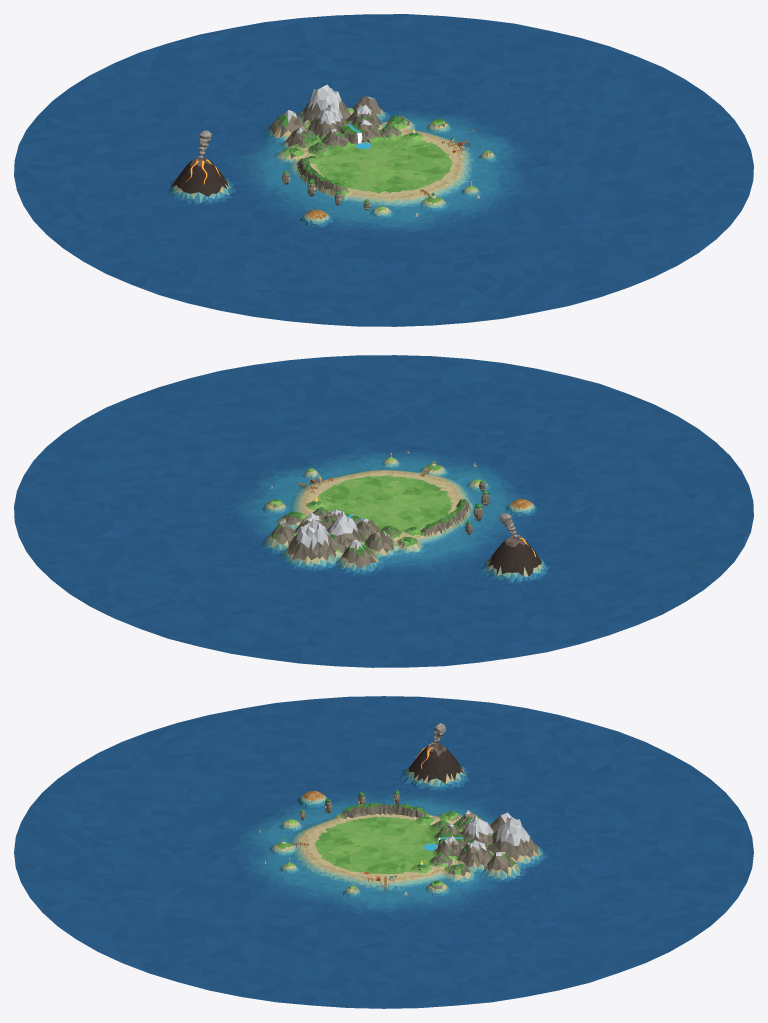
File: w_terrain.glb
3 views of the same model, one above another, from view 1: azimuth 30°, elevation 25°; view 2: azimuth 150°, elevation 25°; view 3: azimuth 270°, elevation 25° (orthographic).
Visible parts, largest first — view 1: Ground; view 2: Ground; view 3: Ground.
Part boxes in pixels (<box>): Ground: <box>14,14,753,326</box>; Ground: <box>14,355,753,667</box>; Ground: <box>14,696,753,1008</box>.
Size of the model in its own units: 400 by 33.25 by 400.
